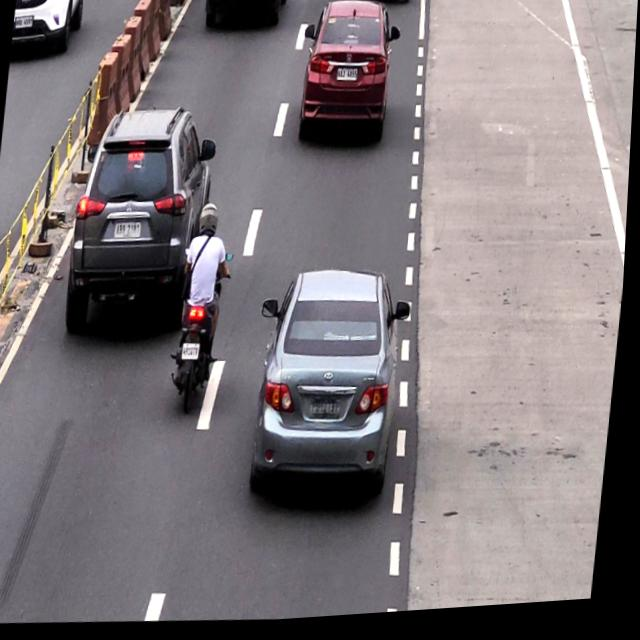Car: (259, 271, 411, 502), (70, 107, 205, 337), (299, 2, 400, 155)
License-Plate: (314, 399, 348, 428), (113, 220, 147, 247), (337, 72, 360, 90), (184, 344, 204, 364)
Motorcycle: (171, 206, 236, 420)
